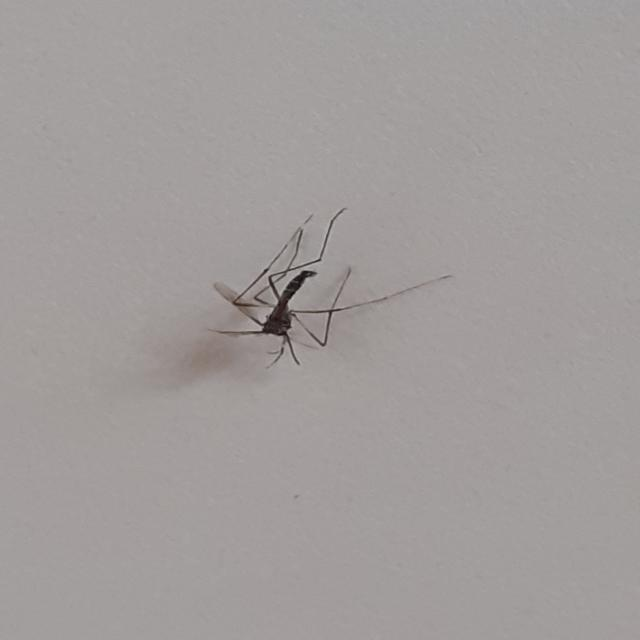albopictus: (200, 206, 440, 372)
